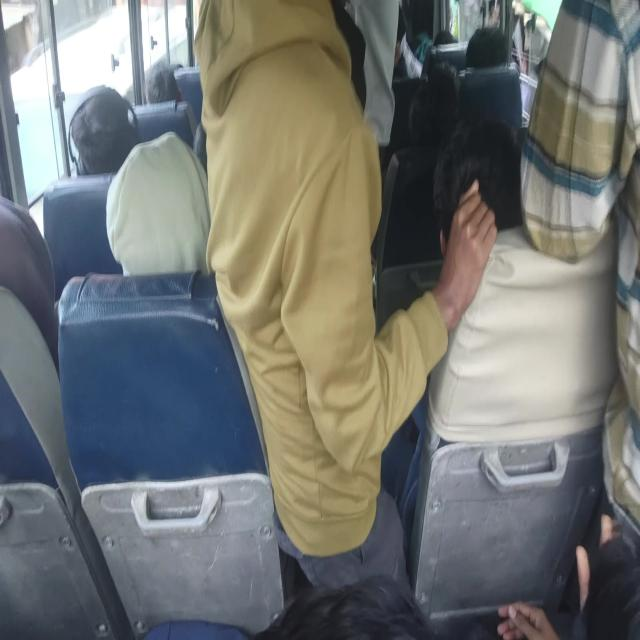person: (192, 0, 502, 594), (406, 113, 619, 622), (496, 512, 639, 639), (105, 130, 212, 276)
